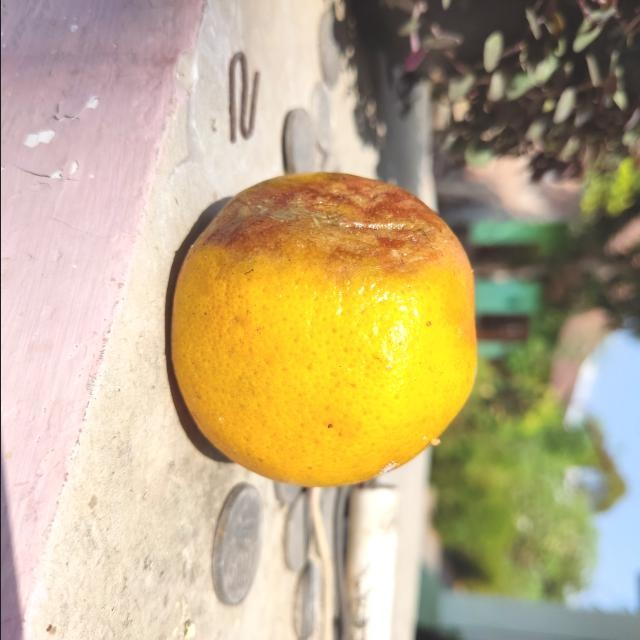agrume: (169, 169, 481, 491)
